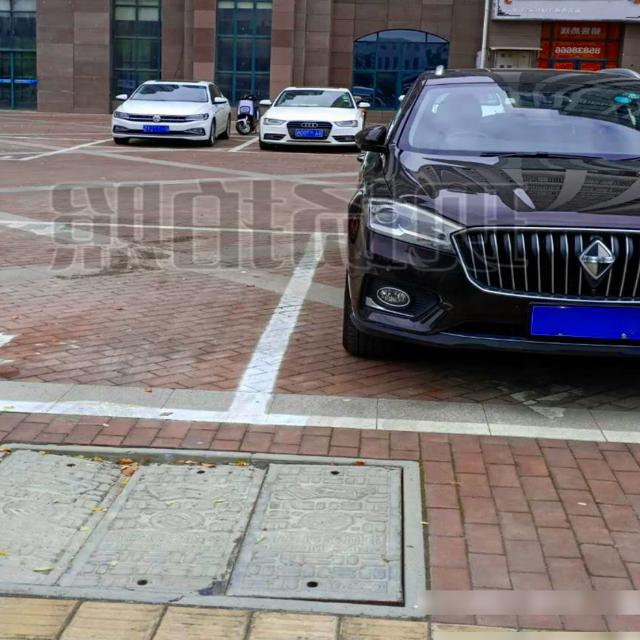uncovered: (0, 443, 434, 613)
